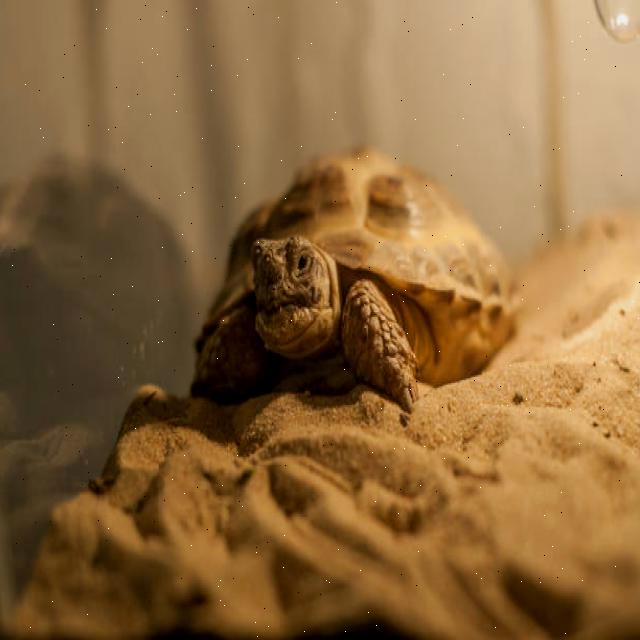tortoise: (189, 146, 511, 410)
